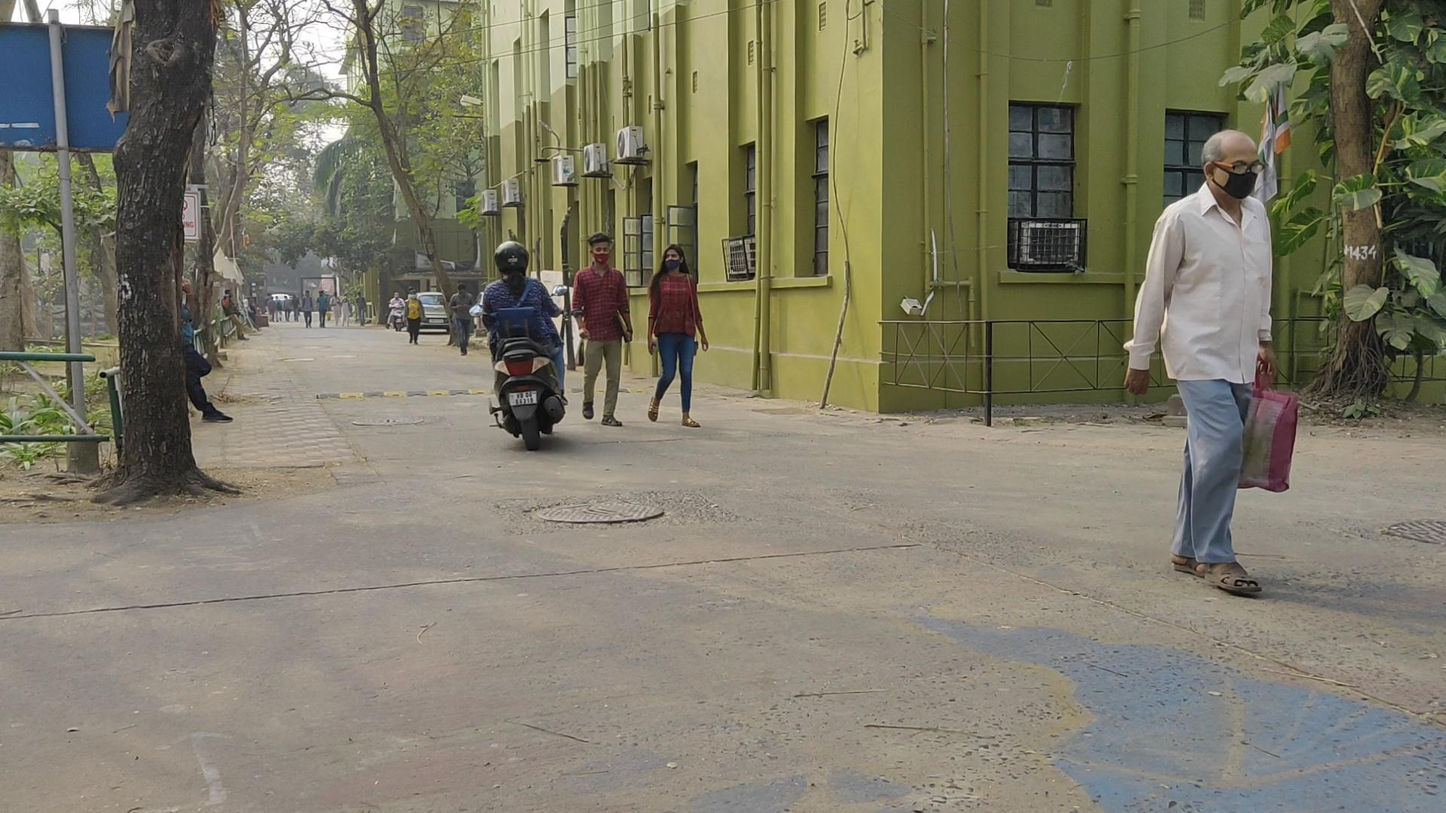bike: (479, 242, 567, 455), (386, 292, 407, 332)
